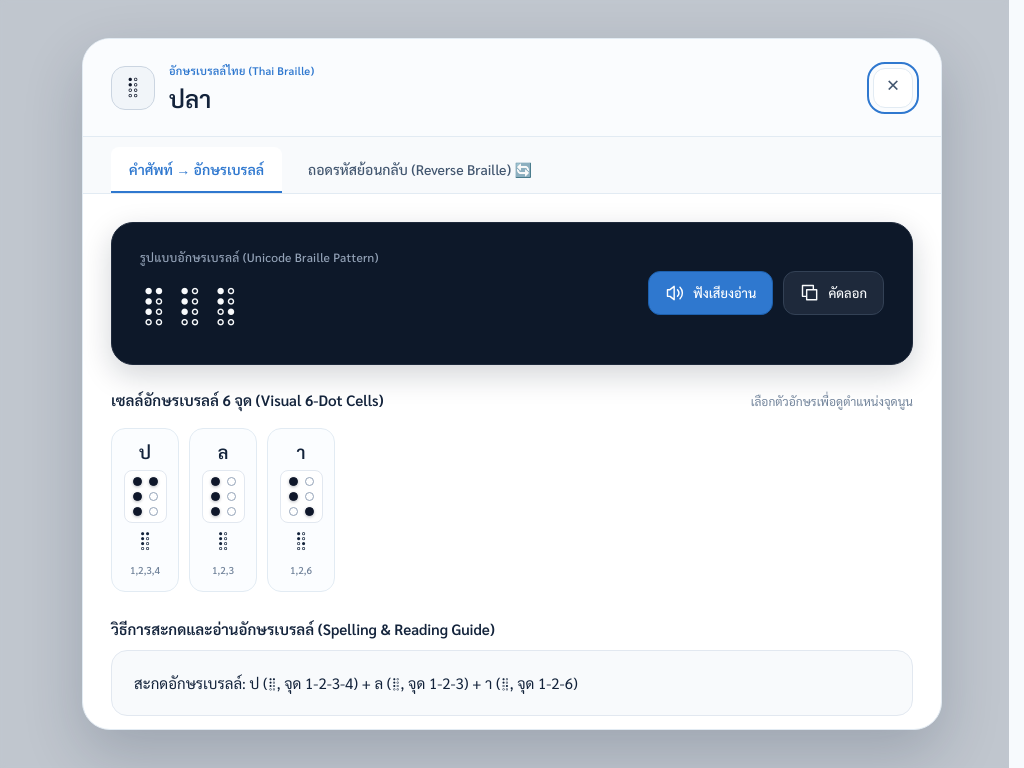
Test case: BrailleModal Component - Reverse Braille Mode › switches to Reverse Braille mode and displays the interactive keypad and prefilled braille
# Click Reverse Braille tab
What coordinates should you click on to do the following:
click the tab "ถอดรหัสย้อนกลับ (Reverse Braille) 🔄"
I would click on:
 (420, 170)
Its box is x1=290 y1=147 x2=550 y2=193.
(page scrolled)
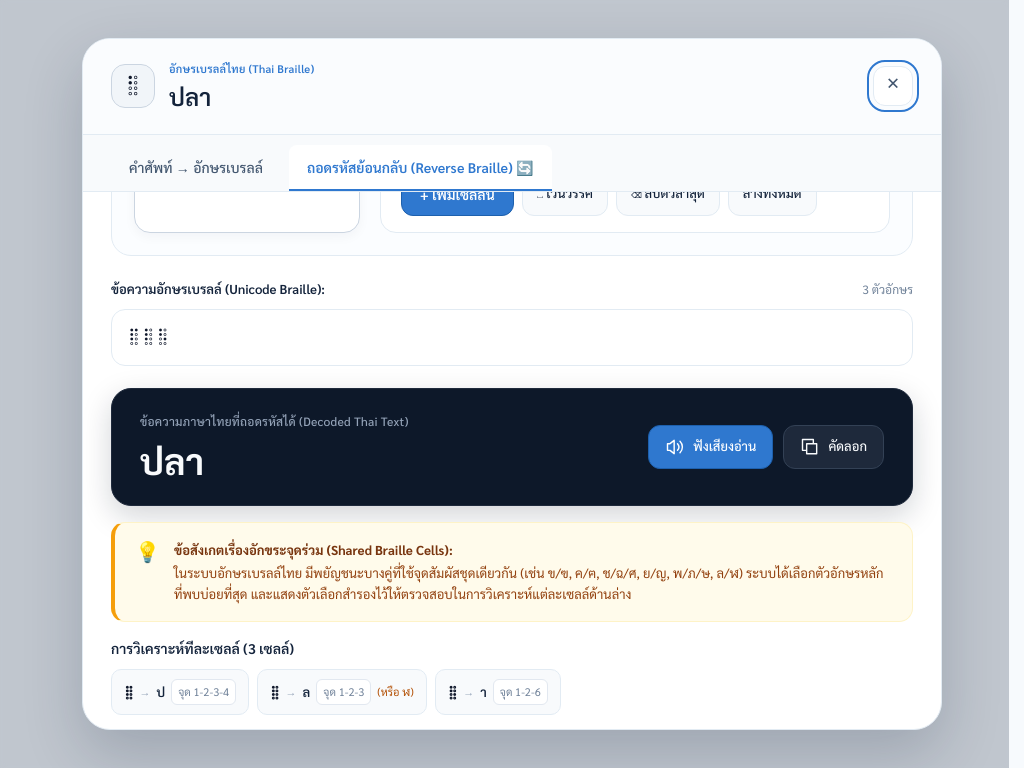
Check: the field named "กล่องข้อความอักษรเบรลล์" is shown, box x1=111 y1=309 x2=913 y2=366
Check: the element named "ข้อความที่ถอดรหัสได้: ปลา" reads "ปลา", box x1=140 y1=437 x2=204 y2=483
